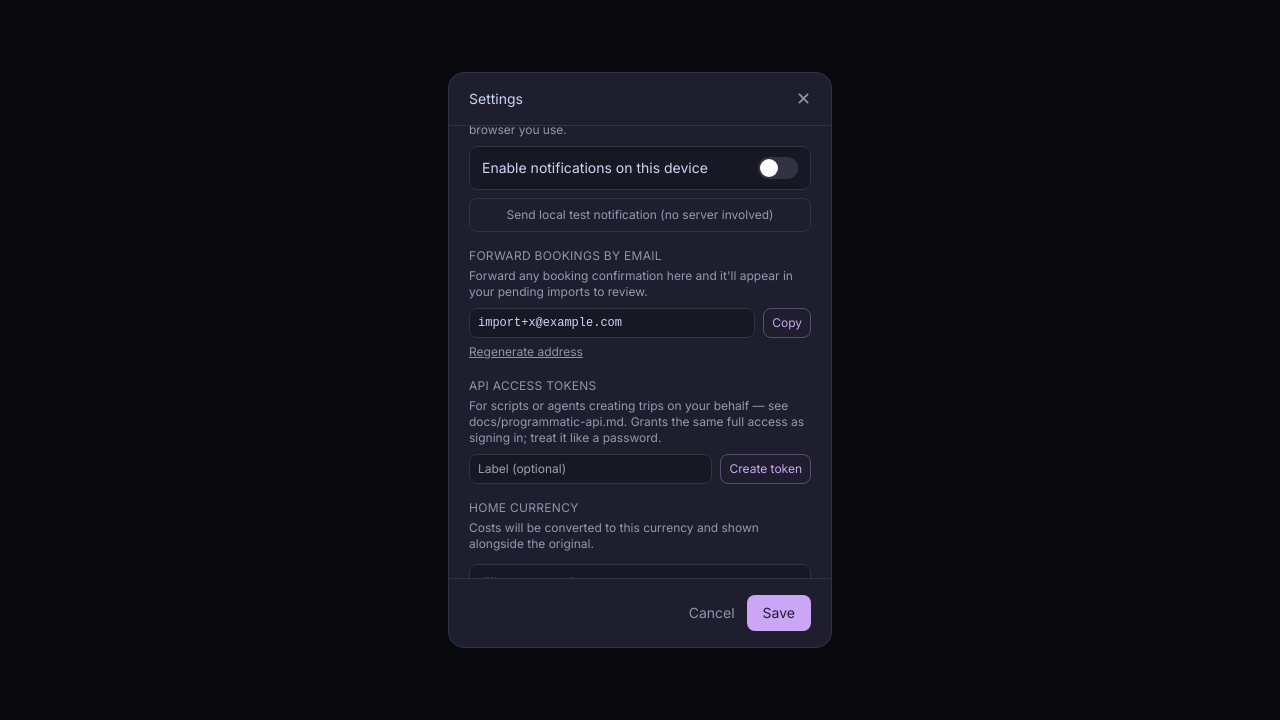
Test: ImportAddress regenerate › confirming rotates the address and displays the new one
(page scrolled)
Expected: the text "import+x@example.com" is shown, [469, 308, 755, 338]
Click the button "Regenerate address": coordinates (526, 352) [469, 344, 583, 360]
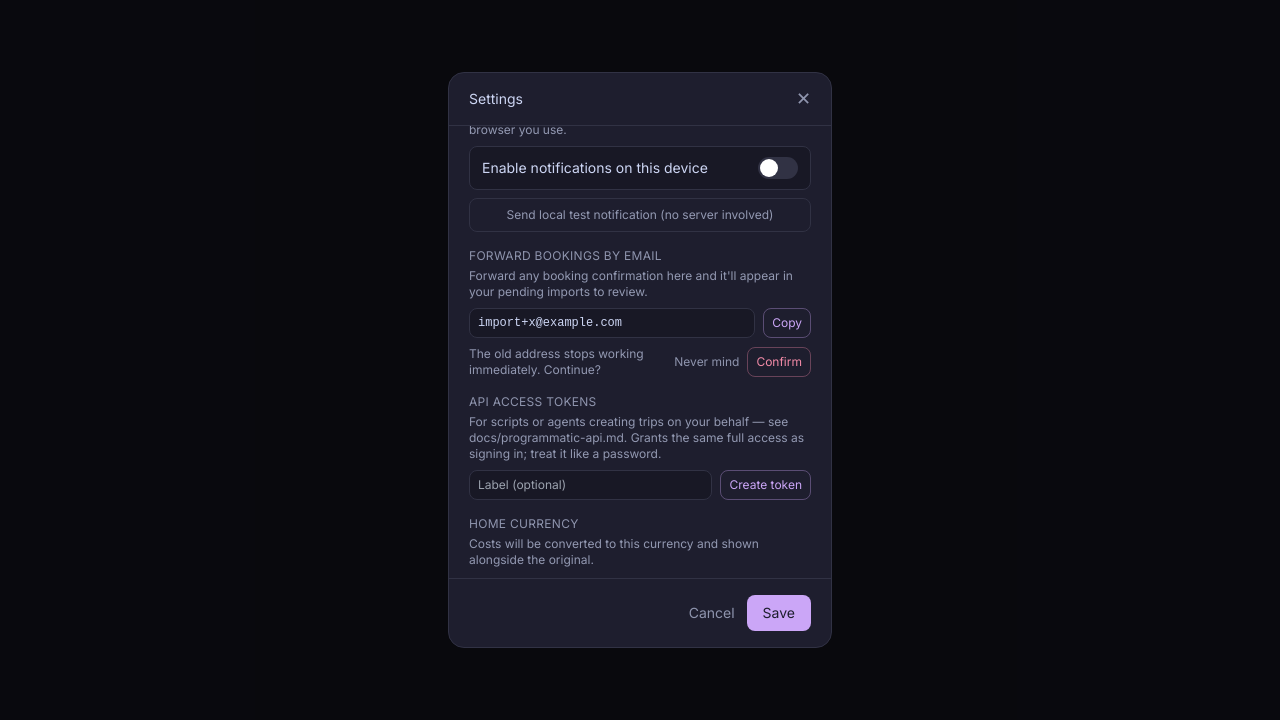
Click the button "Confirm": coordinates (779, 362) [747, 347, 811, 377]
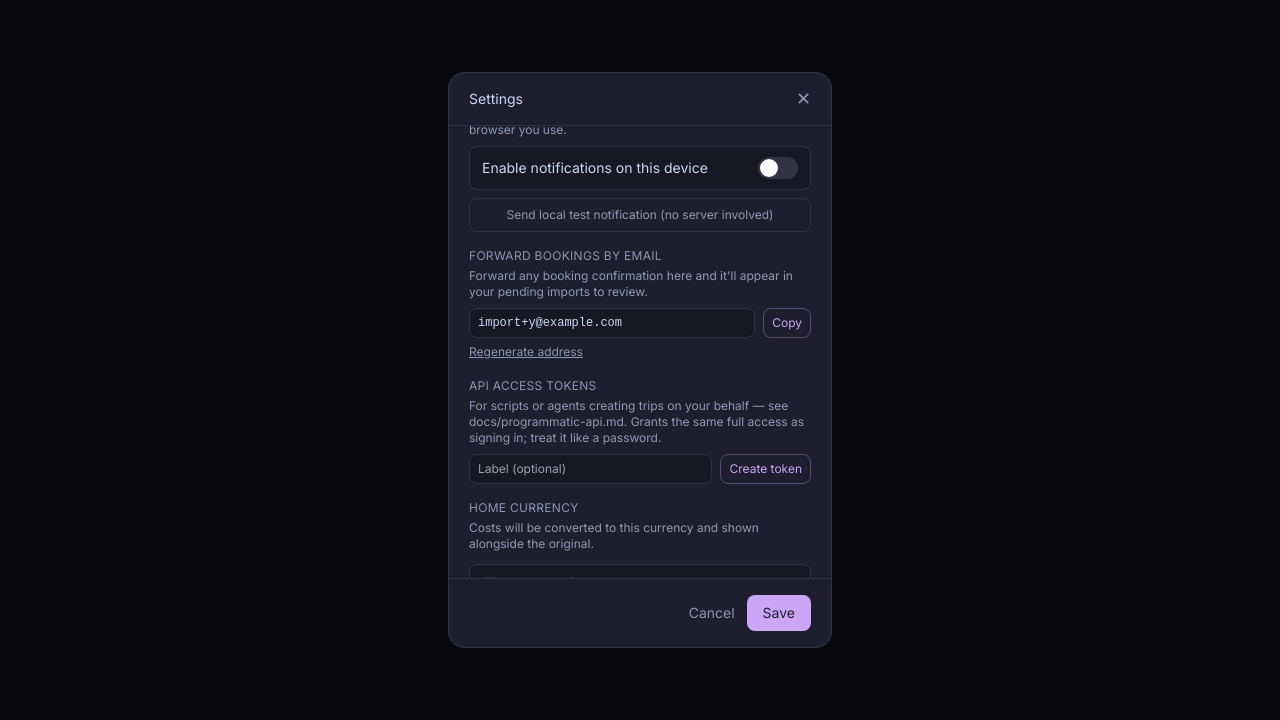
Result: the text "import+y@example.com" is shown at [469, 308, 755, 338]
Result: the text "import+x@example.com" is gone
